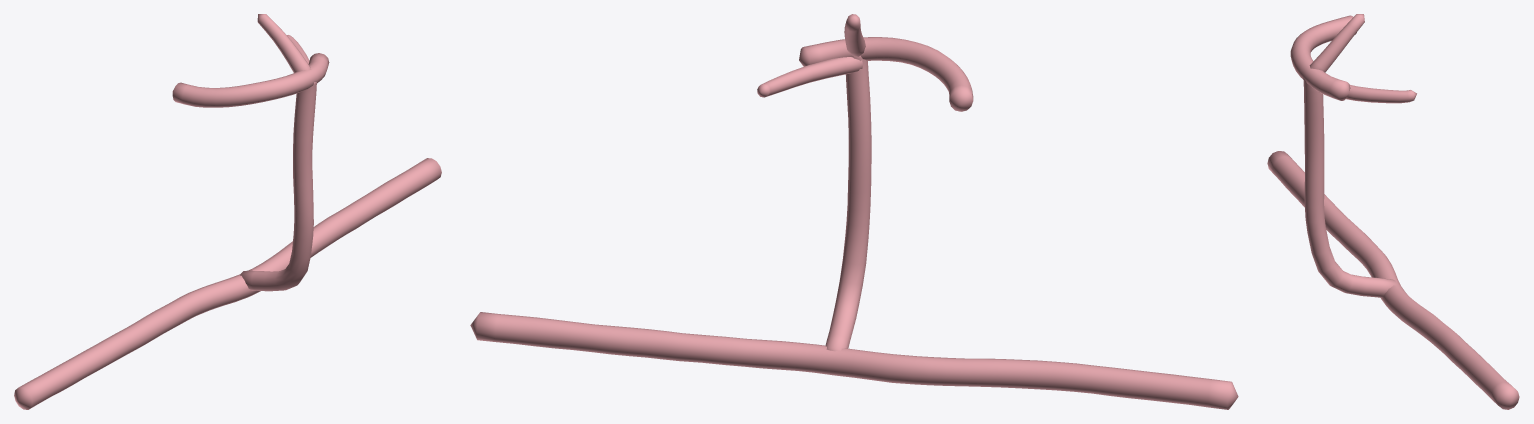
The model's file is Capillary.fbx.
The picture shows the model from 3 angles, left to right: view 1: azimuth 30°, elevation 25°; view 2: azimuth 150°, elevation 25°; view 3: azimuth 270°, elevation 25°; orthographic projection. The views are drawn at different scales.
Parts seen in each view (by area): view 1: Capillary, Capillary_PolypBranch; view 2: Capillary, Capillary_PolypBranch; view 3: Capillary, Capillary_PolypBranch.
Boxes of the visible parts, x1,y1,x2,y2 form: Capillary: (14, 53, 441, 409); Capillary_PolypBranch: (257, 14, 311, 72); Capillary: (470, 37, 1238, 409); Capillary_PolypBranch: (757, 14, 865, 97); Capillary: (1267, 15, 1519, 409); Capillary_PolypBranch: (1309, 14, 1416, 103).
Size of the model in its own units: 30.67 by 16.24 by 12.62.
